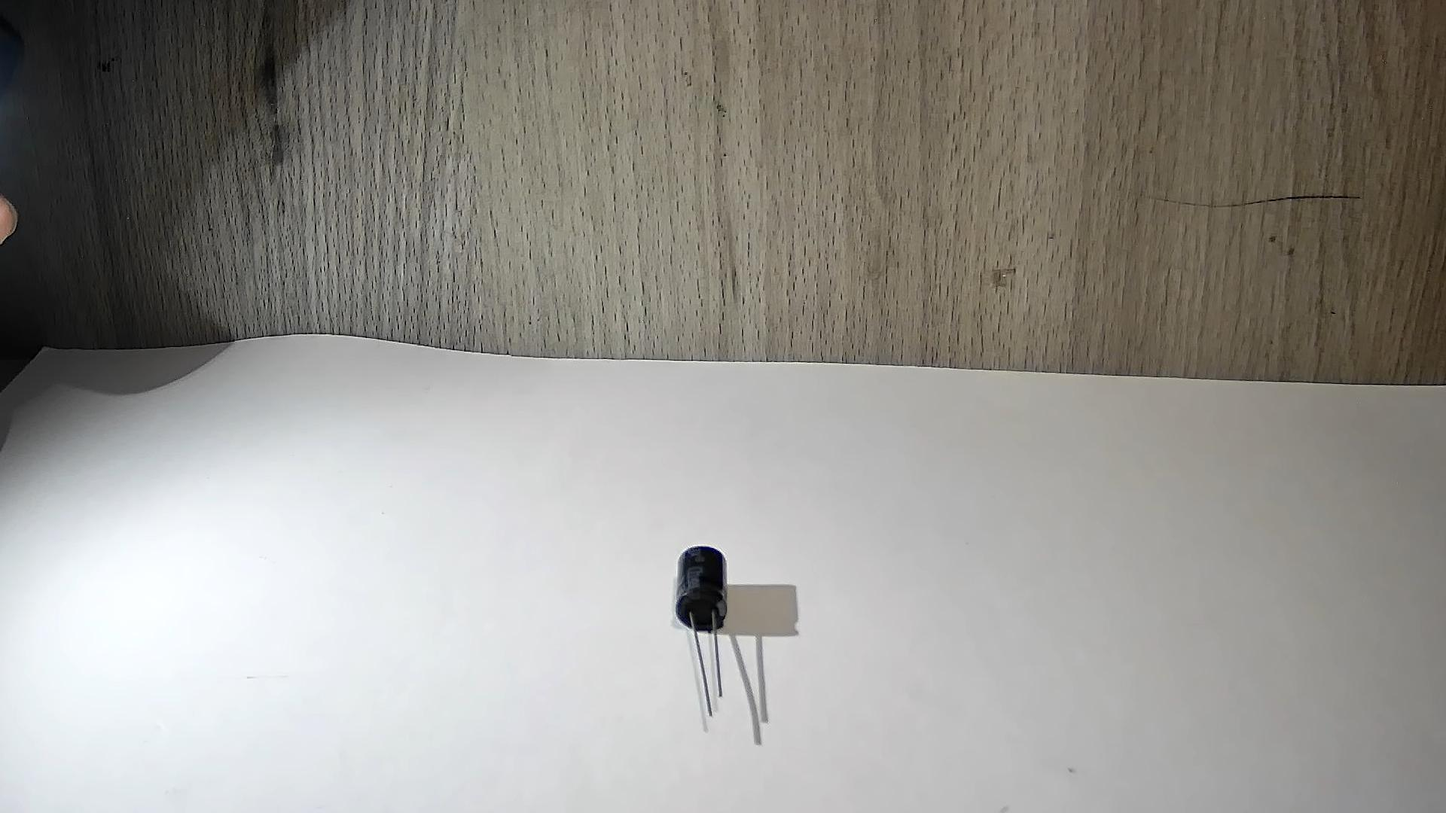Capacitor: (645, 523, 782, 729)
